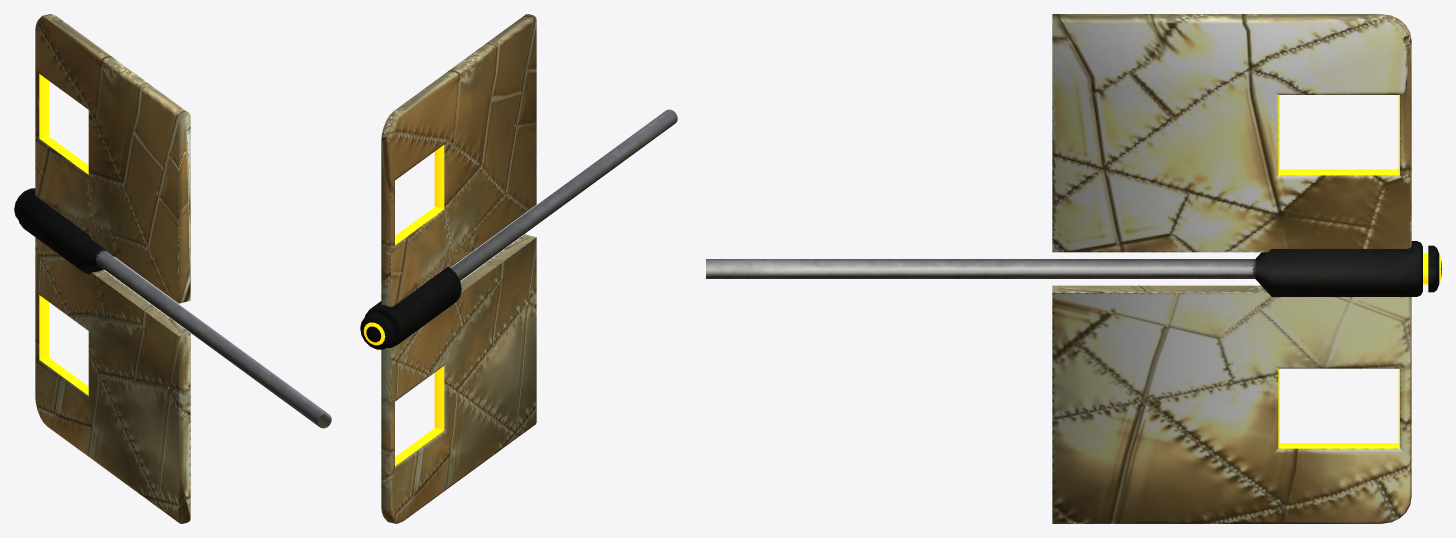
File: floor.02.machine6.gltf
3 renders of one model, left to right at view 1: azimuth 30°, elevation 25°; view 2: azimuth 150°, elevation 25°; view 3: azimuth 270°, elevation 25°, orthographic. The views are drawn at different scales.
Visible parts, largest first — view 1: floor.02.machine.07; view 2: floor.02.machine.07; view 3: floor.02.machine.07.
Part boxes in pixels (x1,y1,x2,y2): floor.02.machine.07: [14, 14, 331, 523]; floor.02.machine.07: [360, 14, 677, 523]; floor.02.machine.07: [706, 14, 1441, 523].
Size of what is drawn, in the model's own units: 1 by 10 by 13.16.
2 materials, 1 textured.
